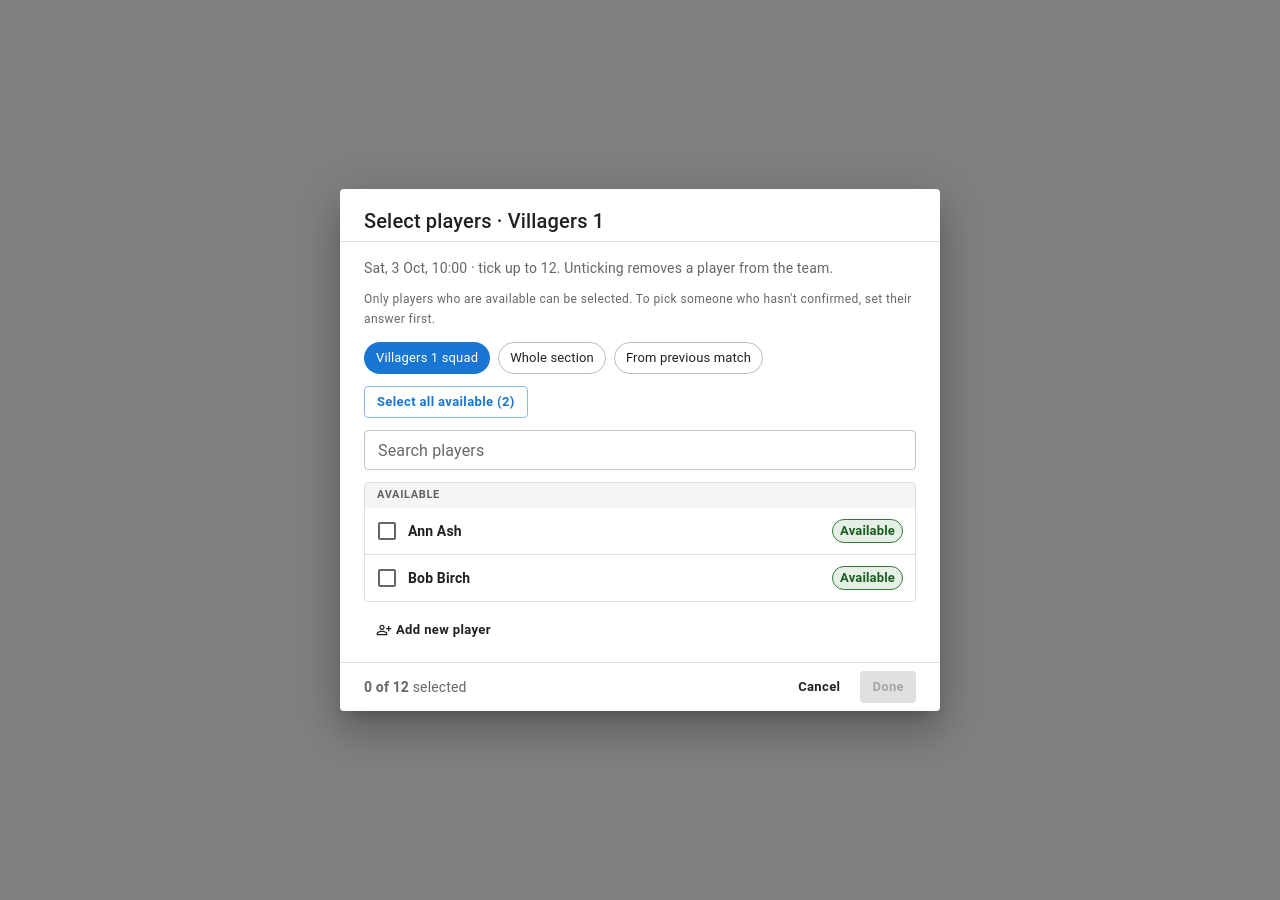
Scenario: SelectPlayersDialog › ticking › ticks and unticks, updating the footer count, and enables Done only after a change
Expected: the text "0 of 12" is shown, [364, 679, 409, 695]
Expected: the button "Done" is disabled, [860, 671, 916, 703]
Click the checkbox labelled "Ann Ash": (418, 531) [375, 519, 462, 543]
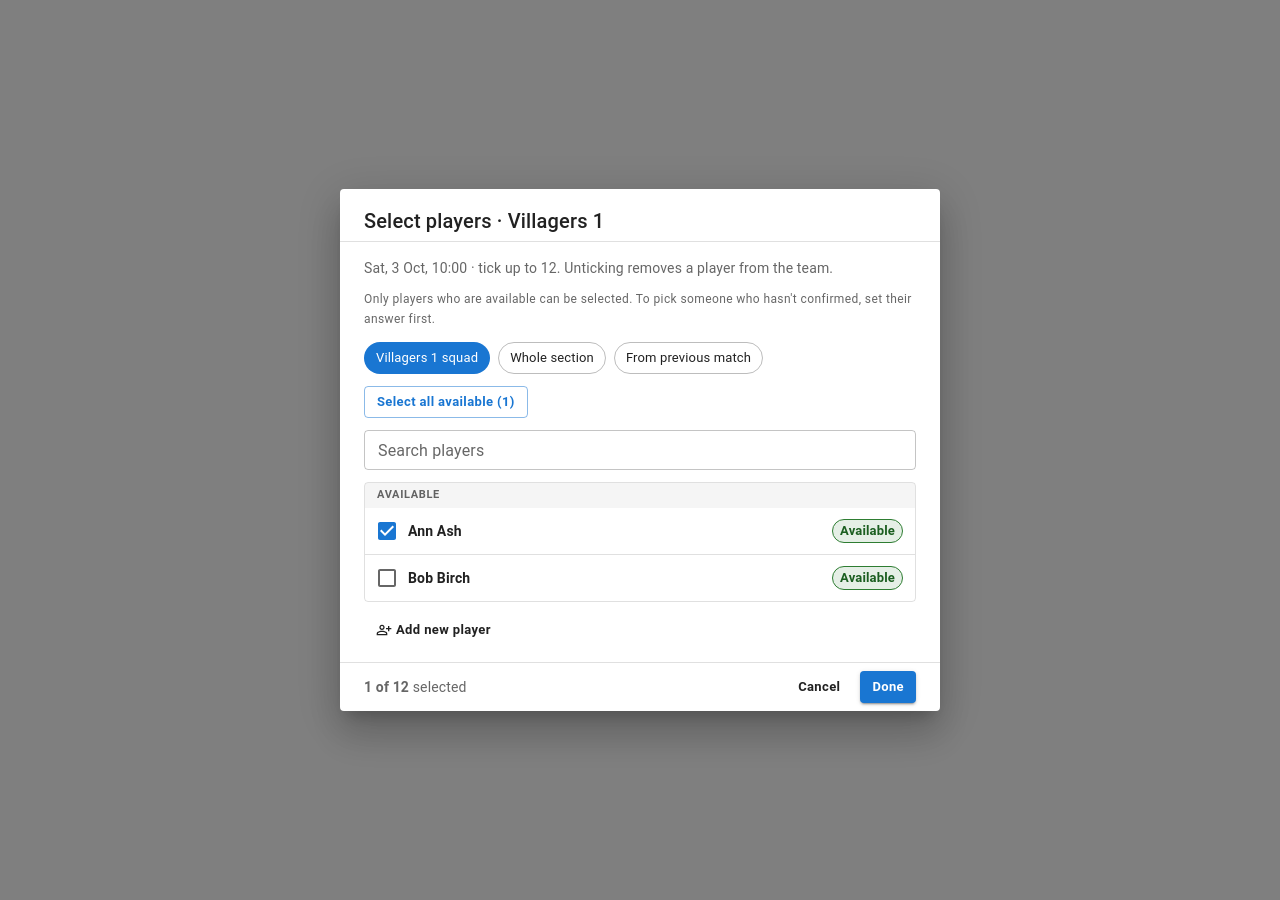
Expected: the text "1 of 12" is shown, [364, 679, 409, 695]
Expected: the button "Done" is enabled, [860, 671, 916, 703]
Click the checkbox labelled "Ann Ash": (418, 531) [375, 519, 462, 543]
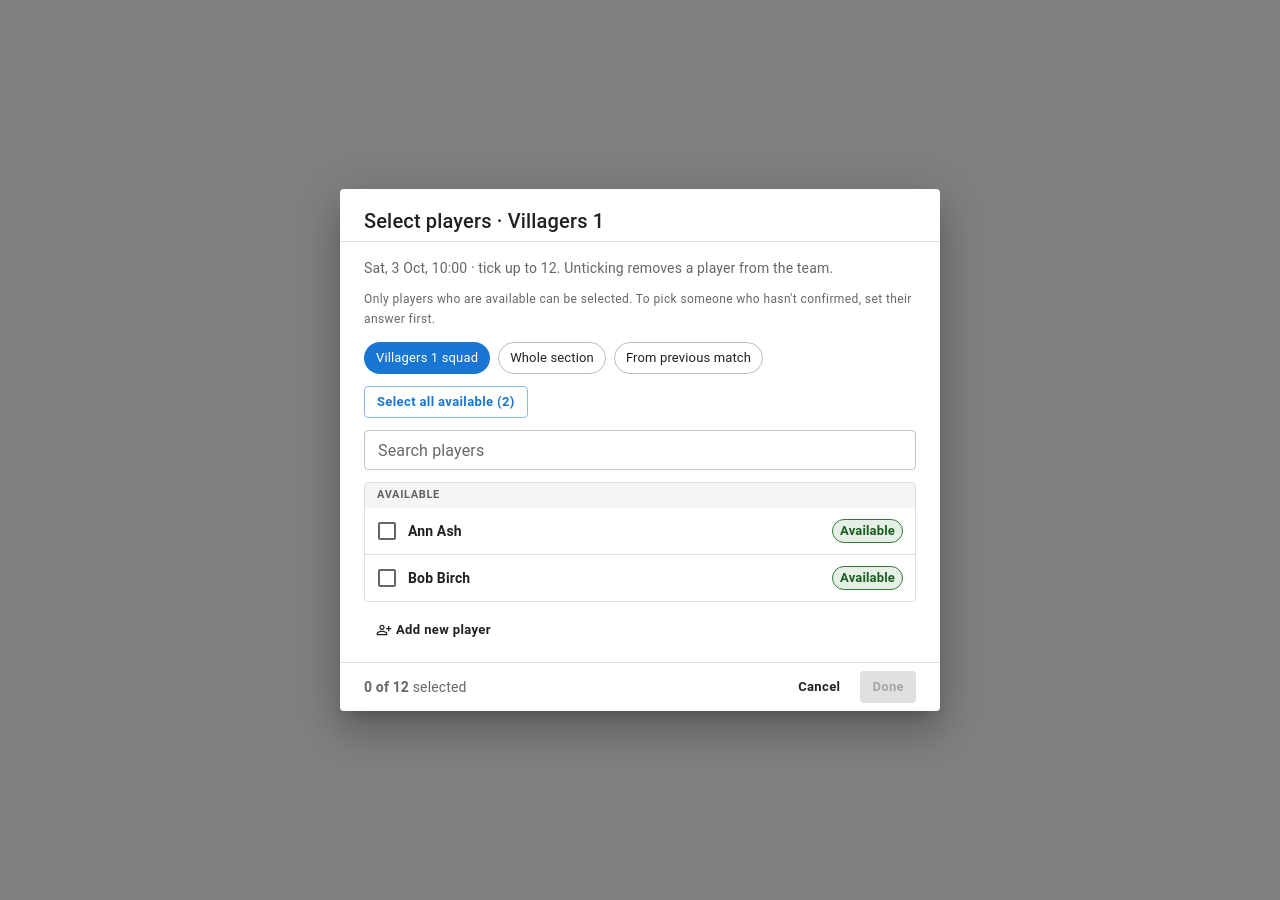
Expected: the text "0 of 12" is shown, [364, 679, 409, 695]
Expected: the button "Done" is disabled, [860, 671, 916, 703]
